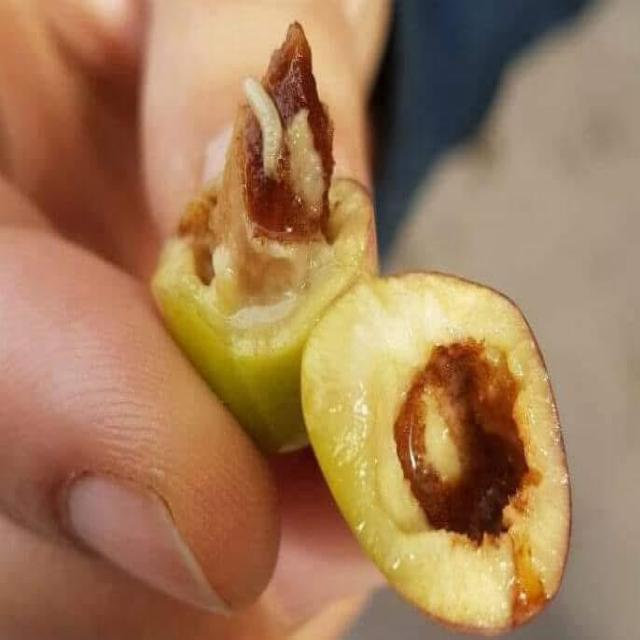Olive Fruit Fly: (153, 21, 377, 451), (301, 273, 569, 632)
